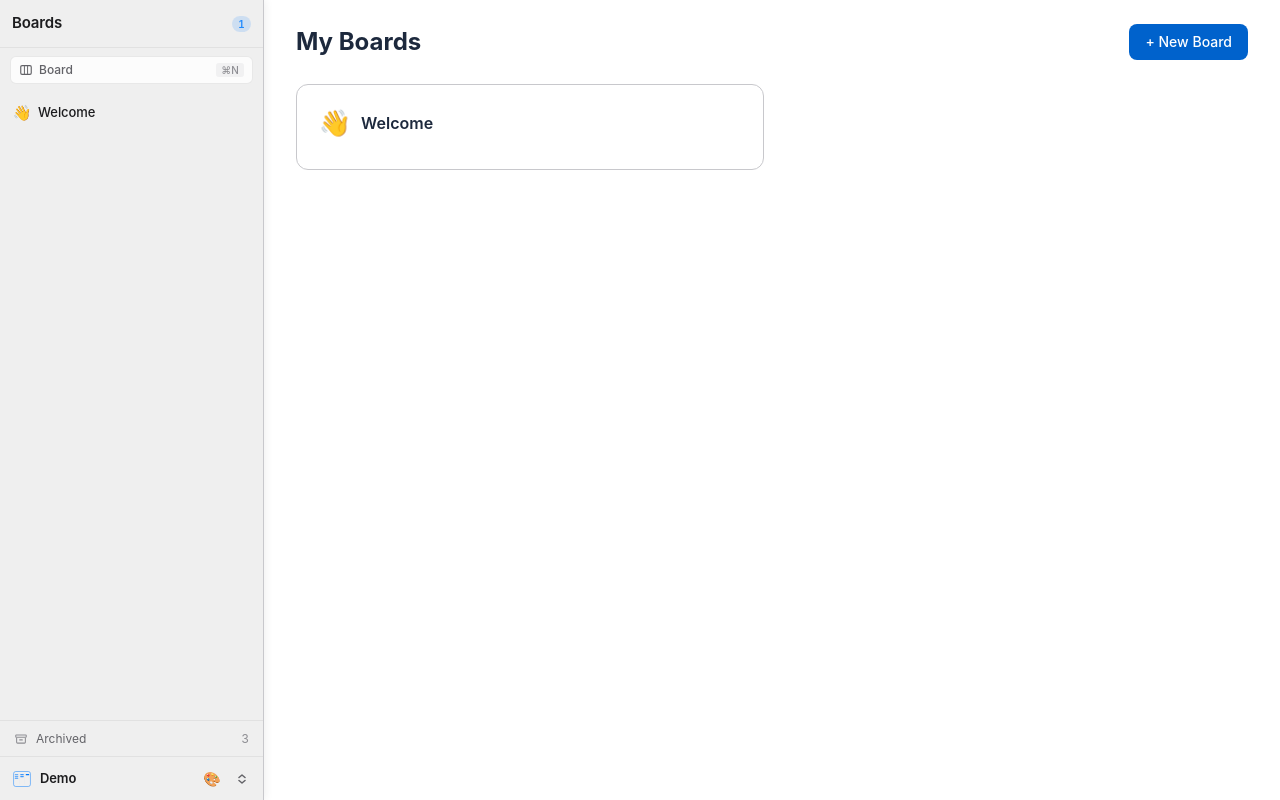
Test: App integration › selecting a board renders its columns
This screenshot has width=1280, height=800.
Expected: the text "Welcome" is shown, top-left (38, 104), bottom-right (95, 120)
Click the button "Welcome".
click(132, 112)  # box top-left (38, 102), bottom-right (225, 122)
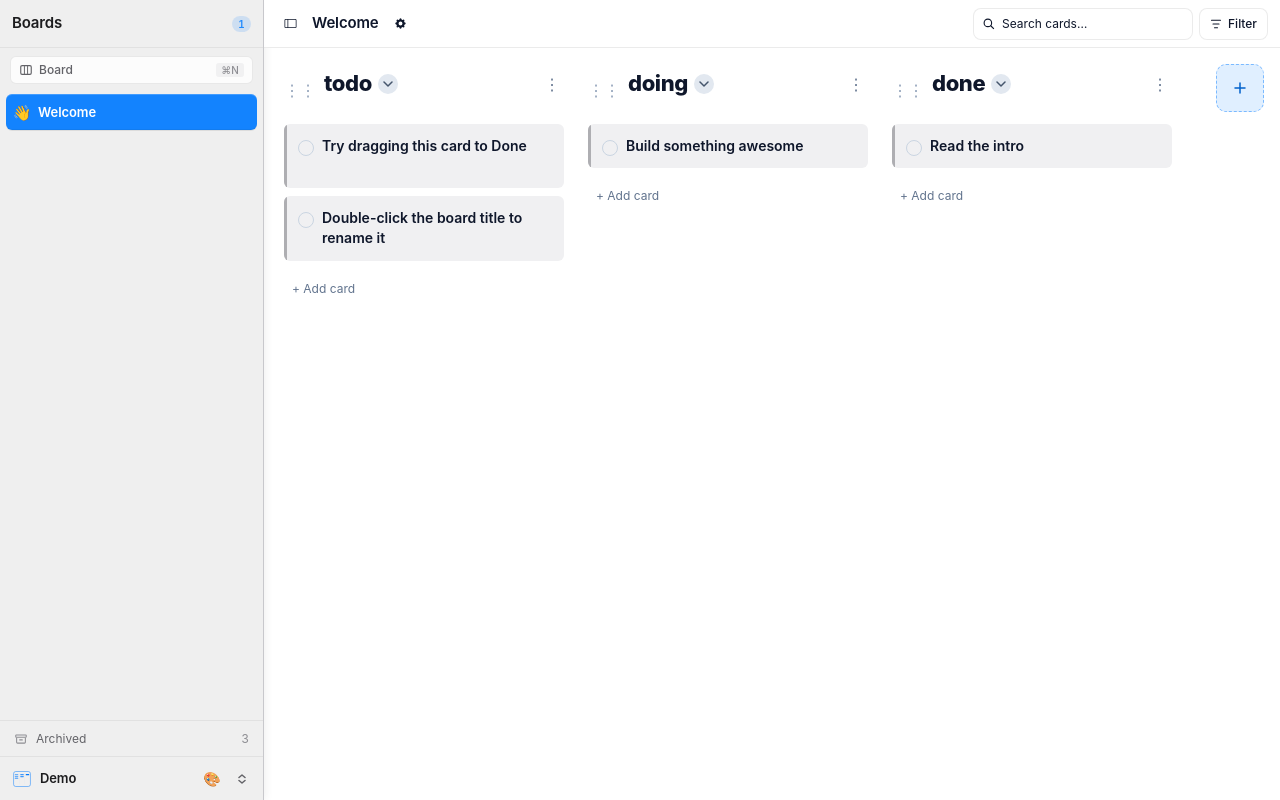
Now the heading "Todo" is shown, box top-left (324, 71), bottom-right (372, 97)
